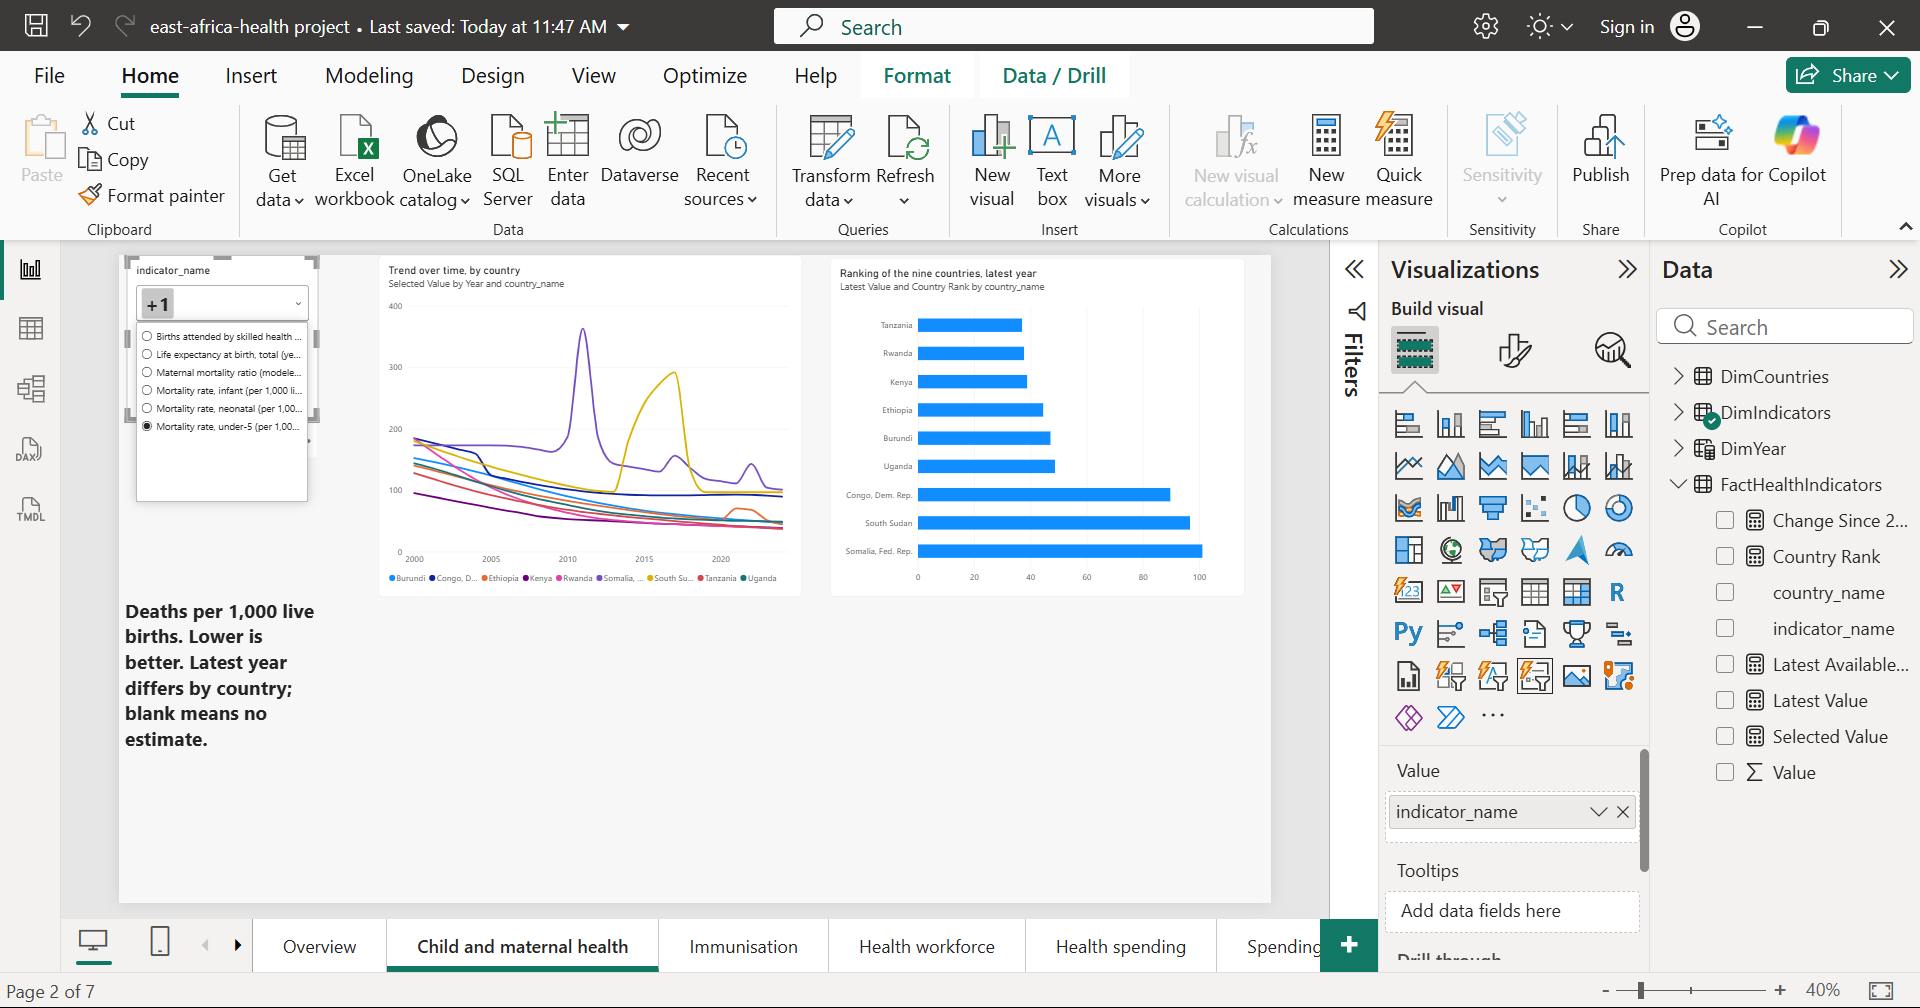

This screenshot's page, from the dashboard's own definition file:
{"tool":"powerbi","page":{"name":"Child and maternal health","canvas":[1920,1080],"ordinal":1},"visuals":[{"type":"listSlicer","fields":{"Values":["DimIndicators.indicator_name"]},"box":[11.3,0,320.3,277.8],"z":0},{"type":"lineChart","title":"Trend over time, by country","fields":{"Category":["DimYear.Year"],"Series":["FactHealthIndicators.country_name"],"Y":["FactHealthIndicators.Selected Value"]},"box":[433.7,0,705.8,569.8],"z":1},{"type":"clusteredBarChart","title":"Ranking of the nine countries, latest year","fields":{"Category":["FactHealthIndicators.country_name"],"Y":["FactHealthIndicators.Latest Value"]},"box":[1184.9,5.7,691.7,564.1],"z":2},{"type":"textbox","box":[11,571,320,278],"z":3}]}

Visuals, with their boxes on the page's 1920x1080 design canvas (x1, y1, x2, y2). These are canvas units, not pixel positions in the 1920x1008 screenshot, which may show the page scaled, cropped or inside an application window:
listSlicer - DimIndicators.indicator_name: left=11, top=0, right=332, bottom=278
"Trend over time, by country" lineChart: left=434, top=0, right=1140, bottom=570
"Ranking of the nine countries, latest year" clusteredBarChart: left=1185, top=6, right=1877, bottom=570
textbox: left=11, top=571, right=331, bottom=849
